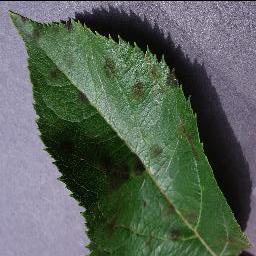apple healthy: (7, 5, 254, 255)
